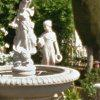Statue: (9, 3, 84, 77)
